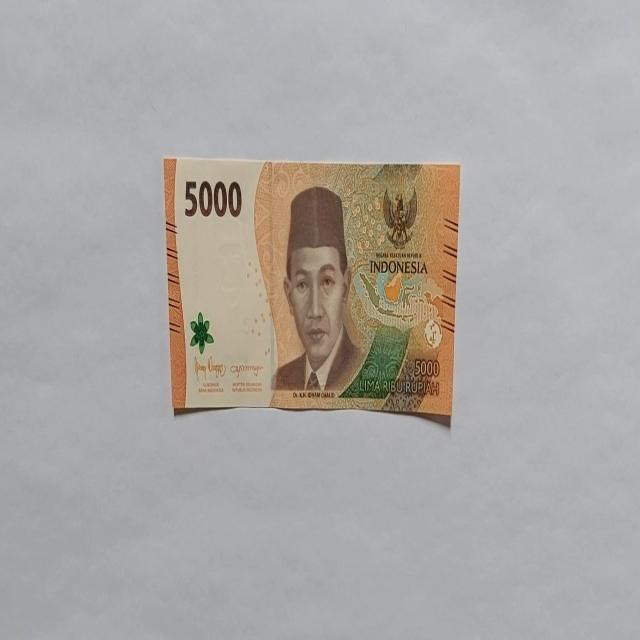lima ribu rupiah: (160, 156, 463, 429), (270, 184, 366, 396)
